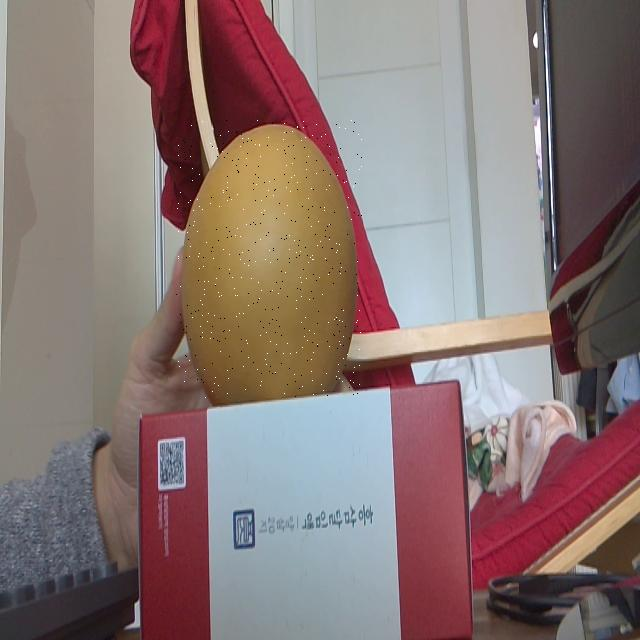pear: (176, 120, 362, 398)
